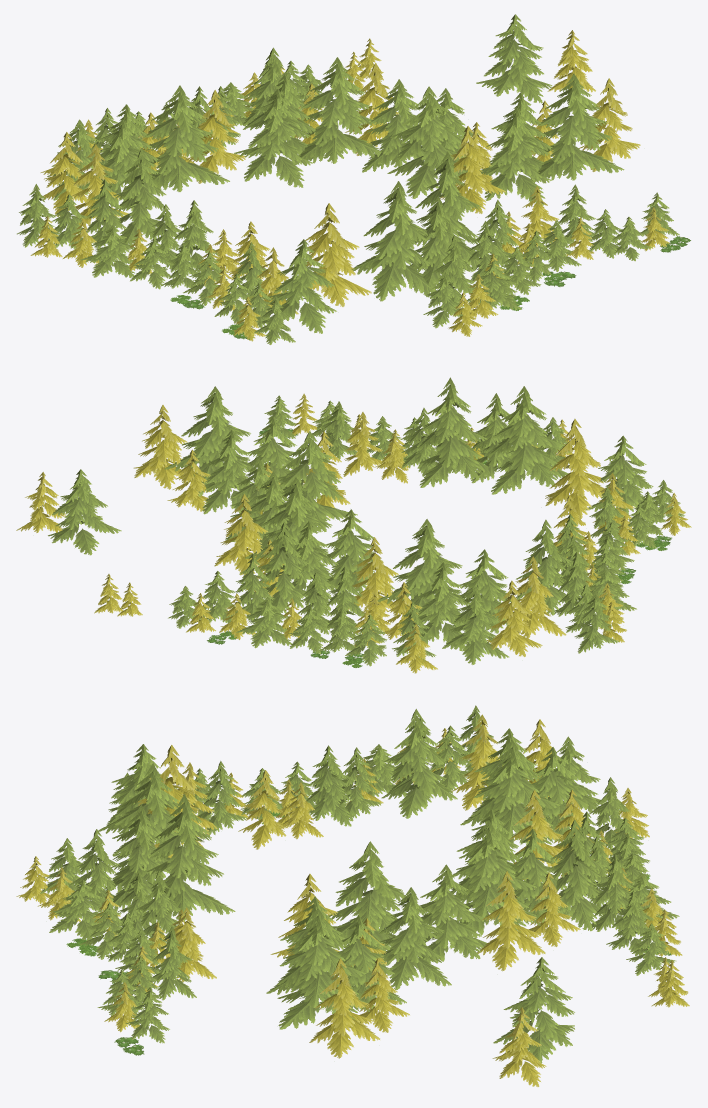
The model's file is area_03_32.fbx.
3 views of the same model, one above another, from view 1: azimuth 30°, elevation 25°; view 2: azimuth 150°, elevation 25°; view 3: azimuth 270°, elevation 25° (orthographic). The views are drawn at different scales.
Visible parts, largest first — view 1: area_03_32; view 2: area_03_32; view 3: area_03_32.
Boxes of the visible parts, left/top/right/bottom form: area_03_32: left=17, top=14, right=690, bottom=344; area_03_32: left=16, top=377, right=691, bottom=673; area_03_32: left=16, top=705, right=689, bottom=1086.
Size of the model in its own units: 83.05 by 16.58 by 72.06.
